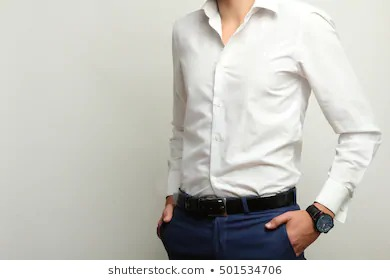F_belt: (178, 188, 303, 210)
F_shirt: (163, 1, 386, 213)
